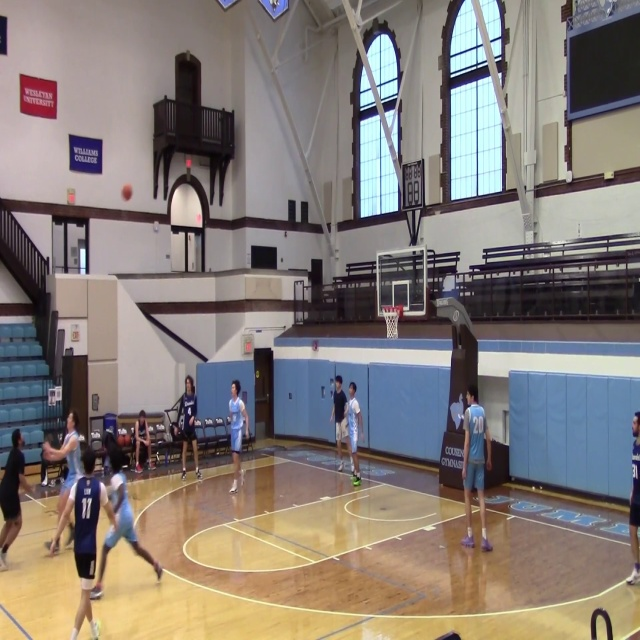Basketball: (117, 434, 131, 447), (121, 184, 132, 200)
